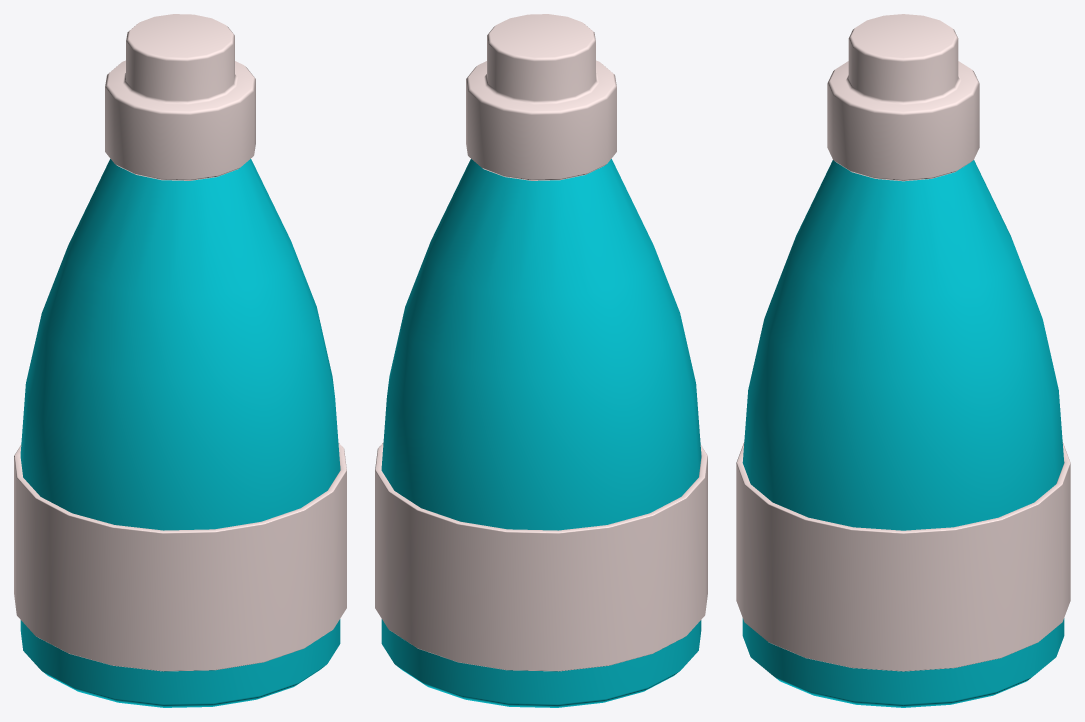
File: Public_13_Bottle_6.glb
The picture shows the model from 3 angles, left to right: view 1: azimuth 30°, elevation 25°; view 2: azimuth 150°, elevation 25°; view 3: azimuth 270°, elevation 25°; orthographic projection.
Parts seen in each view (by area): view 1: Public_13_Bottle_6; view 2: Public_13_Bottle_6; view 3: Public_13_Bottle_6.
Part boxes in pixels (<box>): Public_13_Bottle_6: <box>14,14,346,707</box>; Public_13_Bottle_6: <box>375,14,707,707</box>; Public_13_Bottle_6: <box>736,14,1070,707</box>.
Bounding box in the file's own units: 0.3993 × 0.8001 × 0.3993.
1 material, 1 textured.
